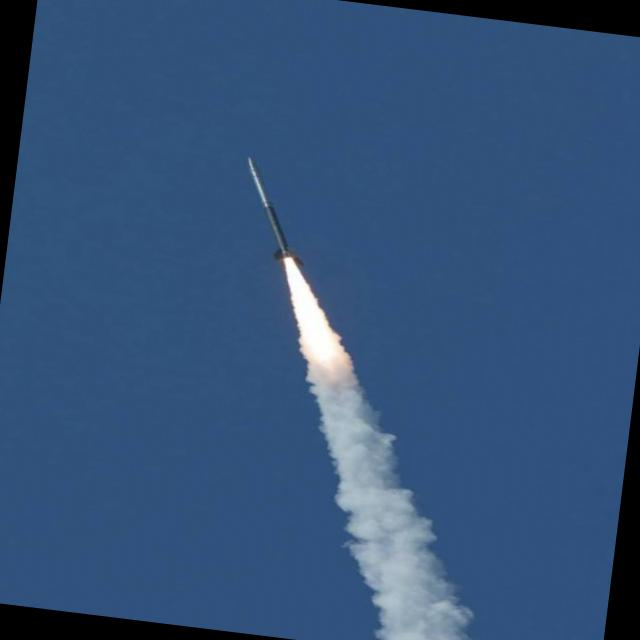rocket: (210, 152, 363, 373)
